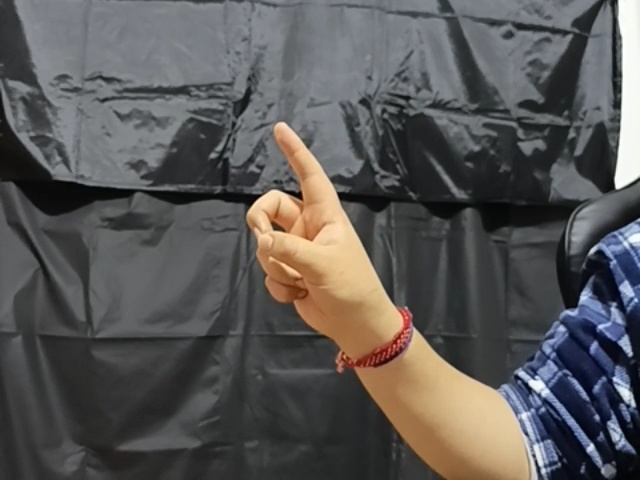D: (242, 120, 406, 324)
